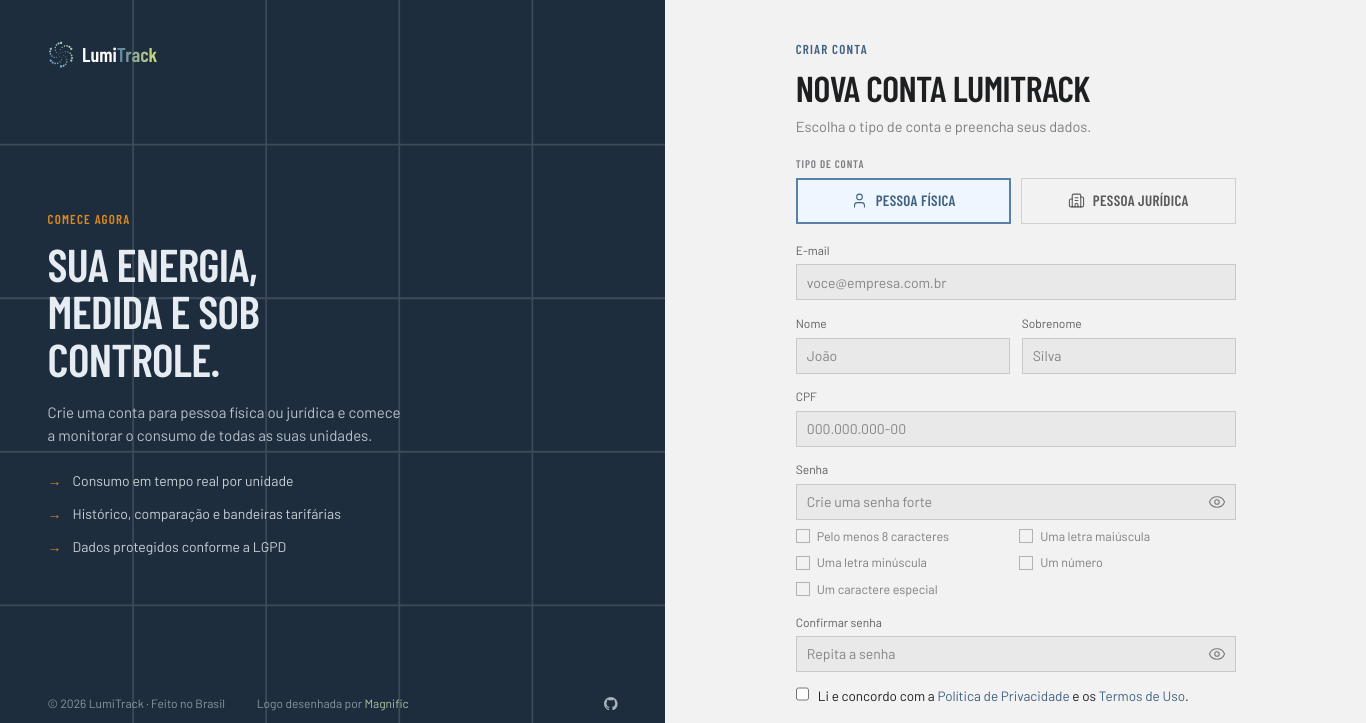
Test case: RegisterPage — validação client-side › mostra erro quando senhas não coincidem
Type "Senha@123" into the password field labelled "Senha" at (1016, 502), box left=796, top=484, right=1236, bottom=520
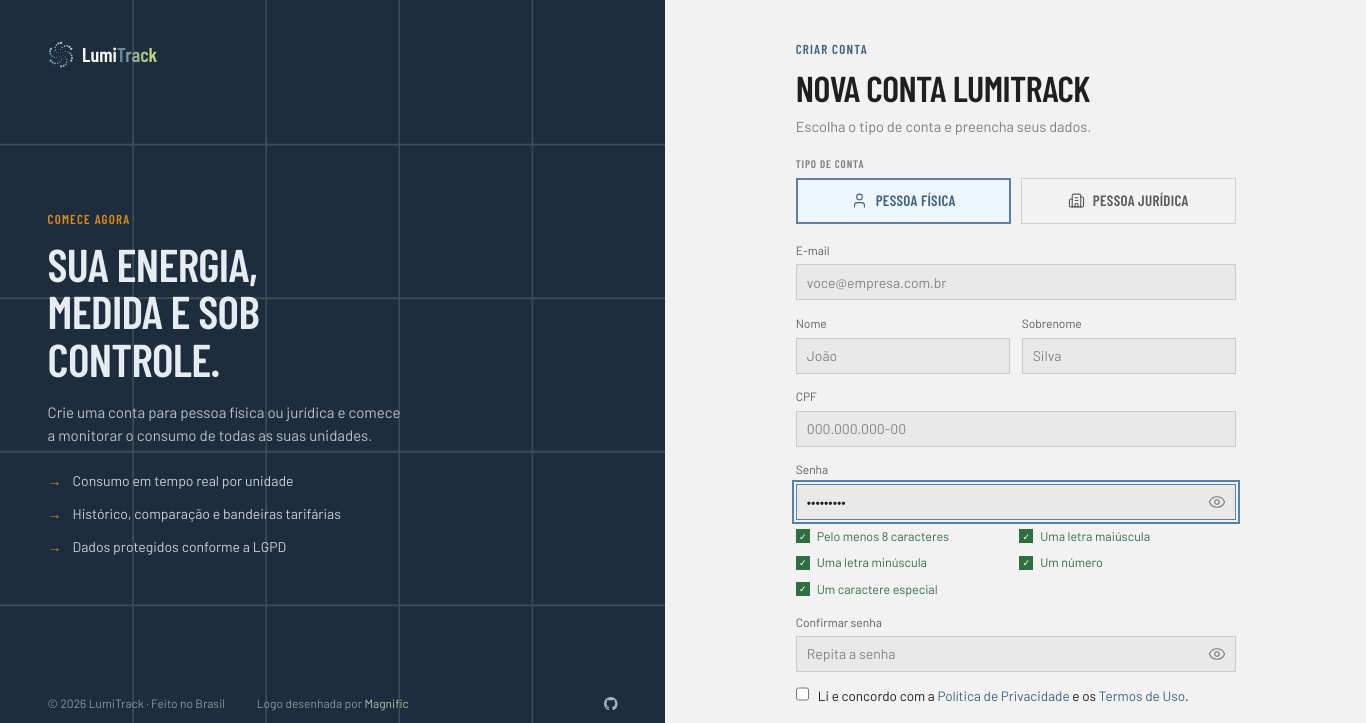
Type "Outra@456" into the password field labelled "Confirmar senha" at (1016, 654), box left=796, top=636, right=1236, bottom=672
(page scrolled)
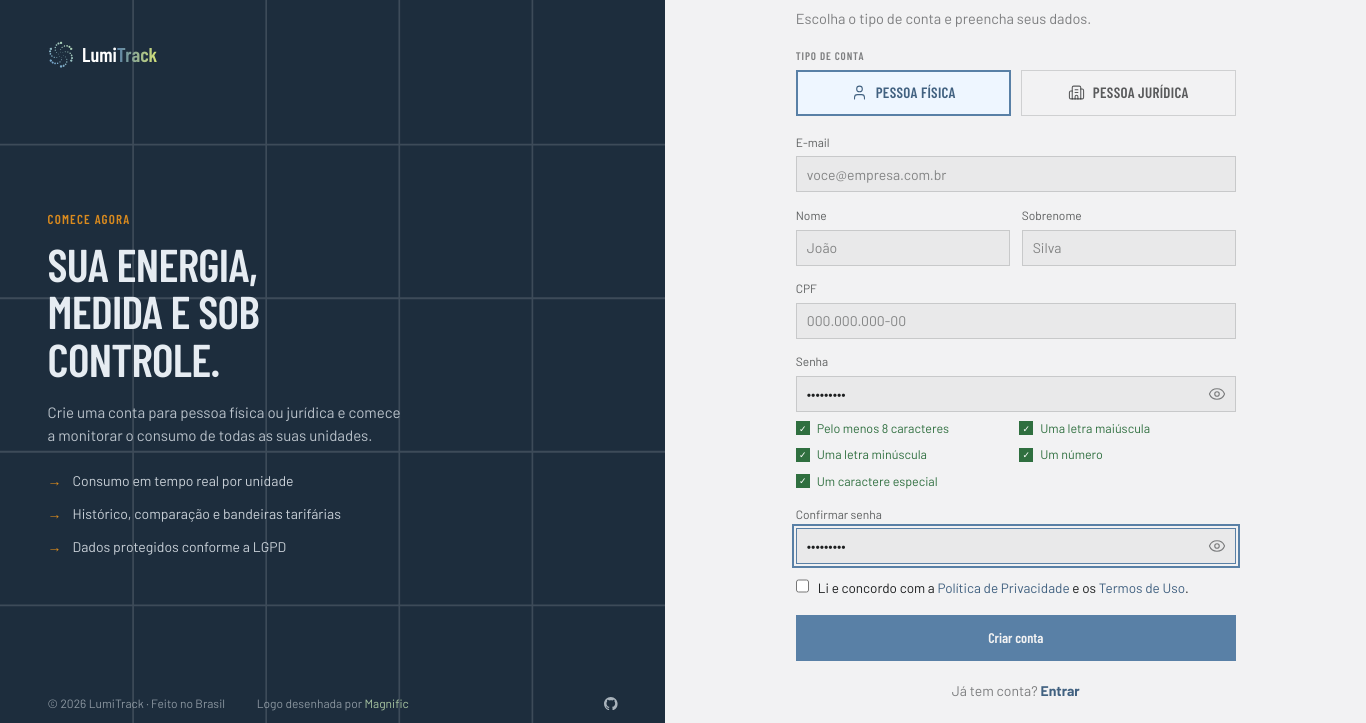
Click the button "Criar conta" at (1016, 638), box left=796, top=615, right=1236, bottom=661
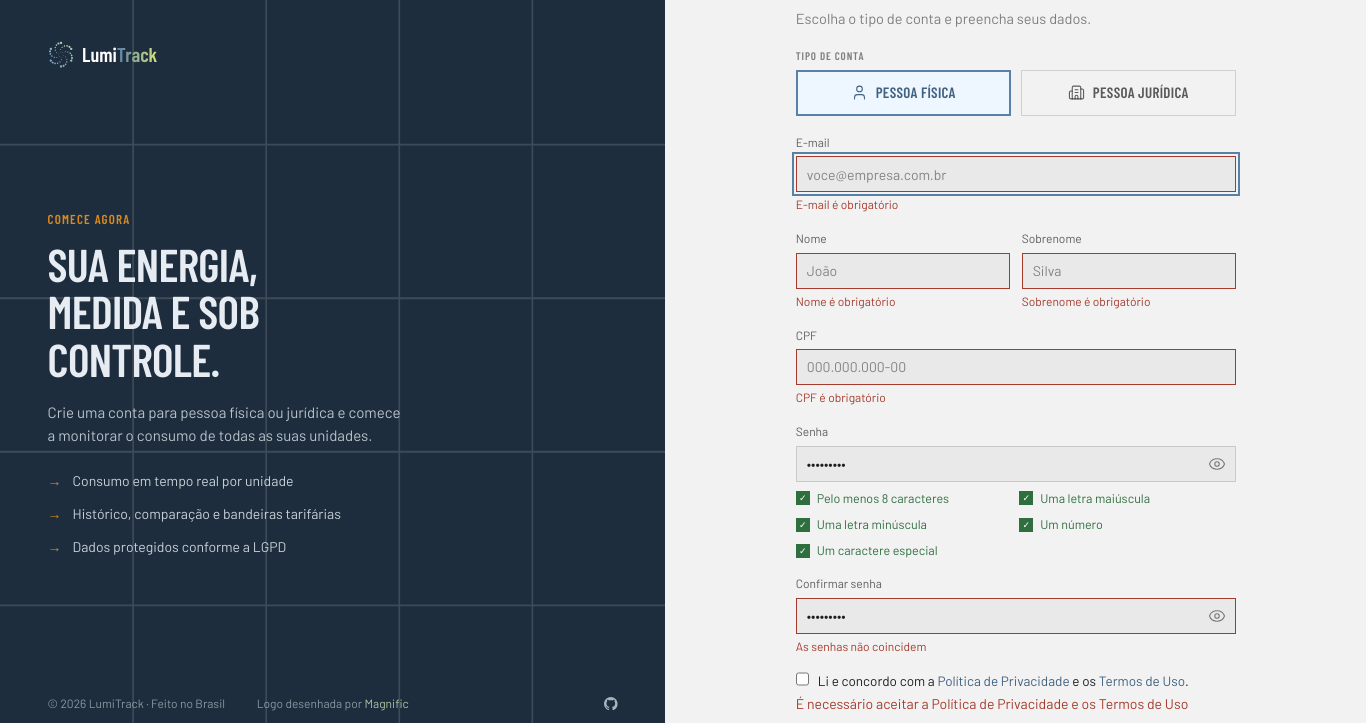
Check: the text "As senhas não coincidem" is shown, box left=796, top=639, right=926, bottom=653
